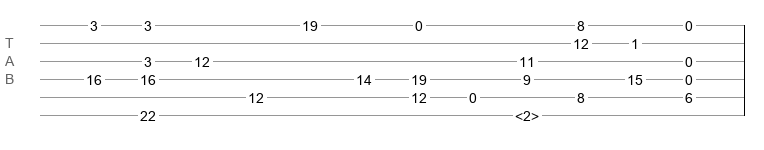0: (415, 18, 423, 28), (469, 90, 477, 100), (685, 54, 693, 64), (685, 72, 693, 82), (685, 18, 693, 28)
1: (631, 36, 639, 46)
11: (519, 54, 535, 64)
12: (194, 54, 210, 64), (248, 90, 264, 100), (411, 90, 427, 100), (573, 36, 589, 46)
14: (356, 72, 372, 82)
15: (627, 72, 643, 82)
16: (86, 72, 102, 82), (140, 72, 156, 82)
19: (302, 18, 318, 28), (411, 72, 427, 82)
22: (140, 108, 156, 118)
3: (90, 18, 98, 28), (144, 54, 152, 64), (144, 18, 152, 28)
6: (685, 90, 693, 100)
8: (577, 90, 585, 100), (577, 18, 585, 28)
9: (523, 72, 531, 82)
harmonic: (515, 108, 539, 118)
